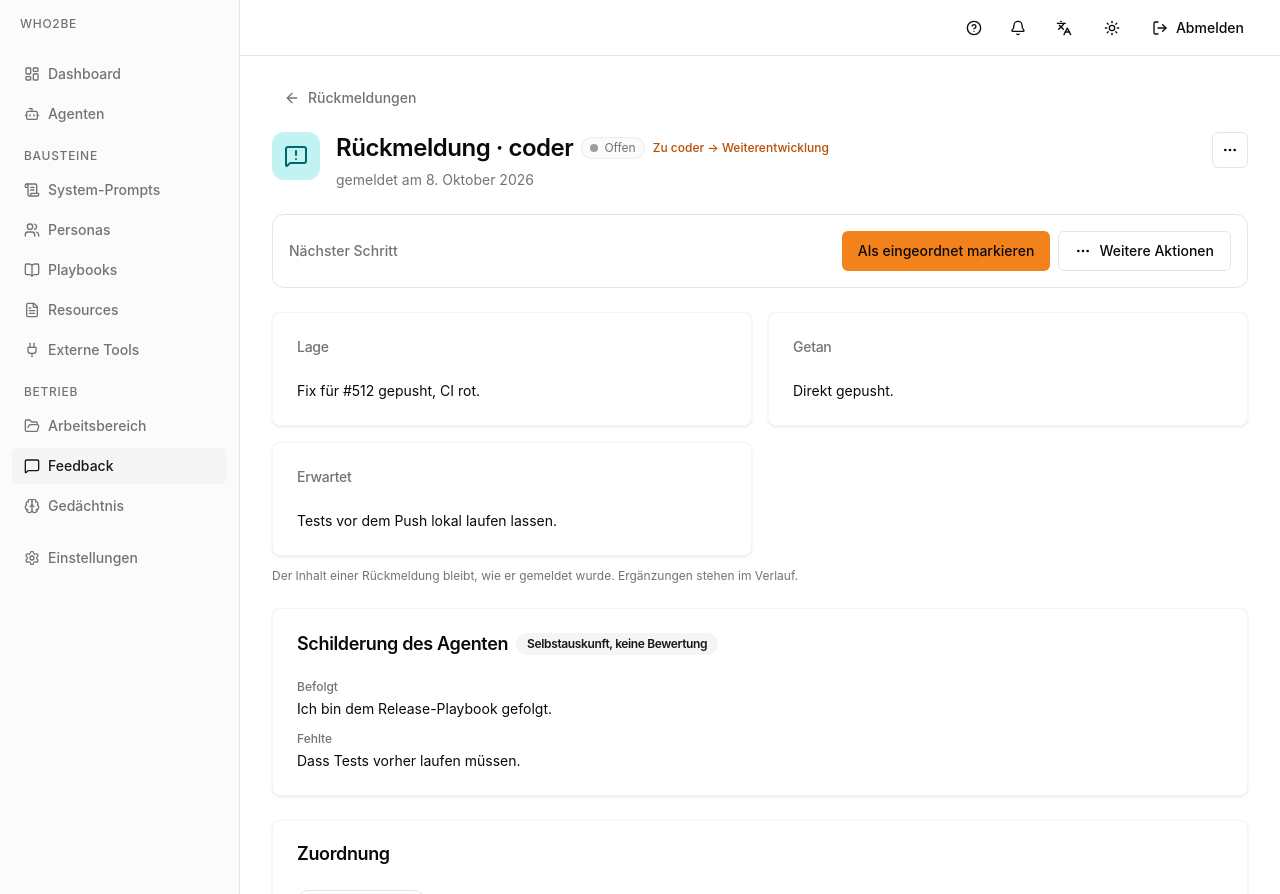
Test case: CaseDetailPage – Triage (D6d) › open mit Zuordnung: „Als eingeordnet markieren“ wechselt direkt und fokussiert den Status
Click the button "Als eingeordnet markieren" at (946, 251), box [842,231,1050,271]
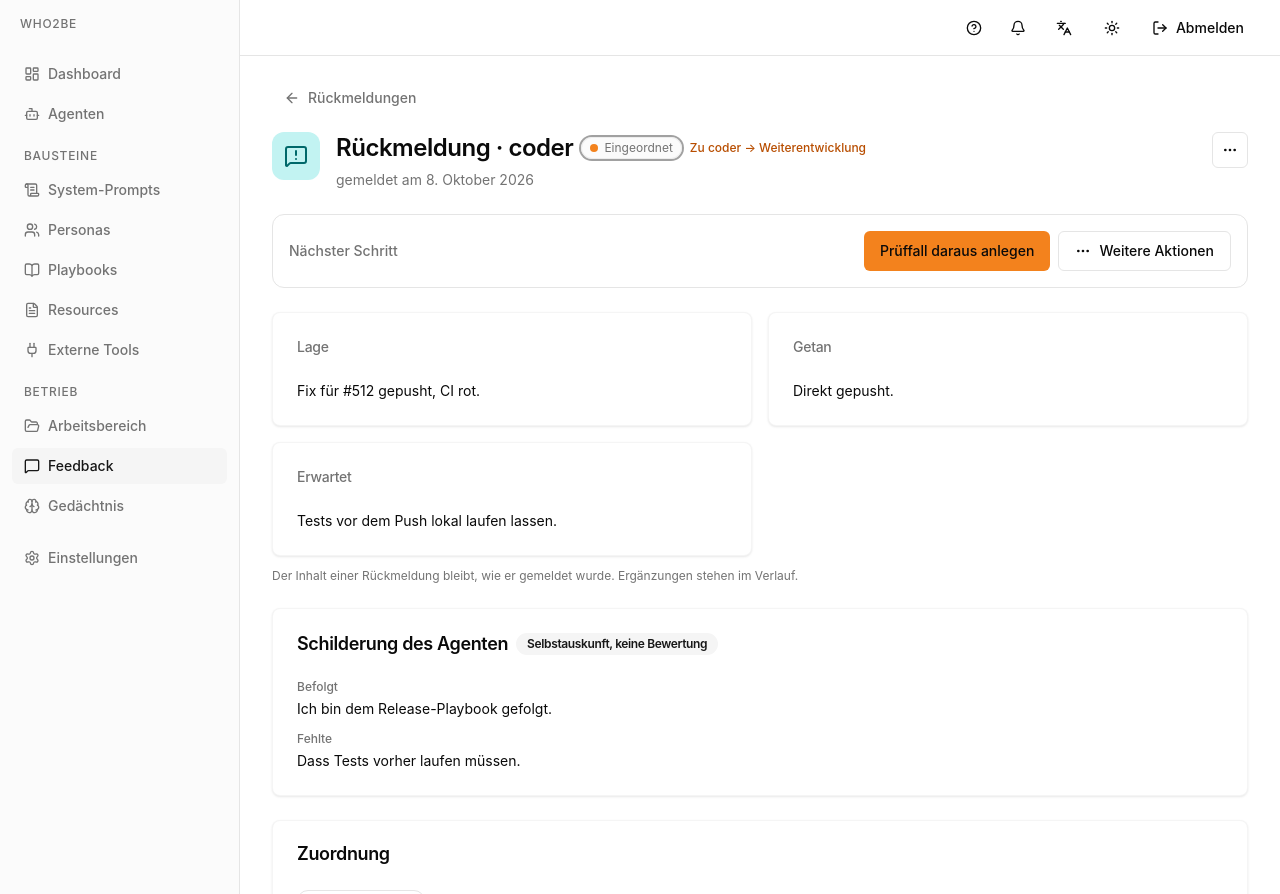
Expected: the element with test id "case-status" reads "Eingeordnet", [604,140,673,155]
